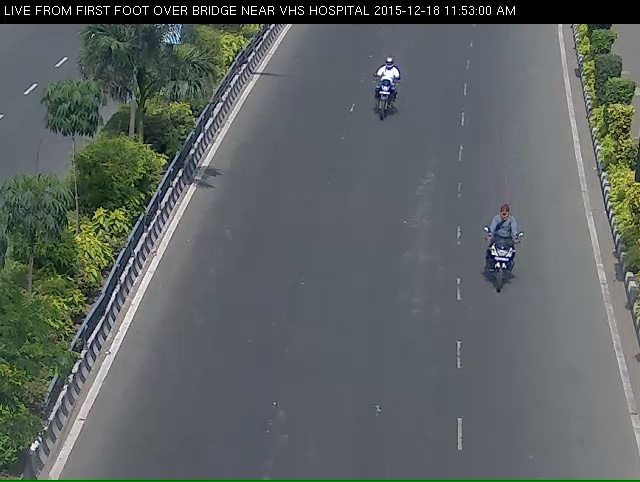Person: (482, 210, 523, 310), (365, 60, 399, 138)
